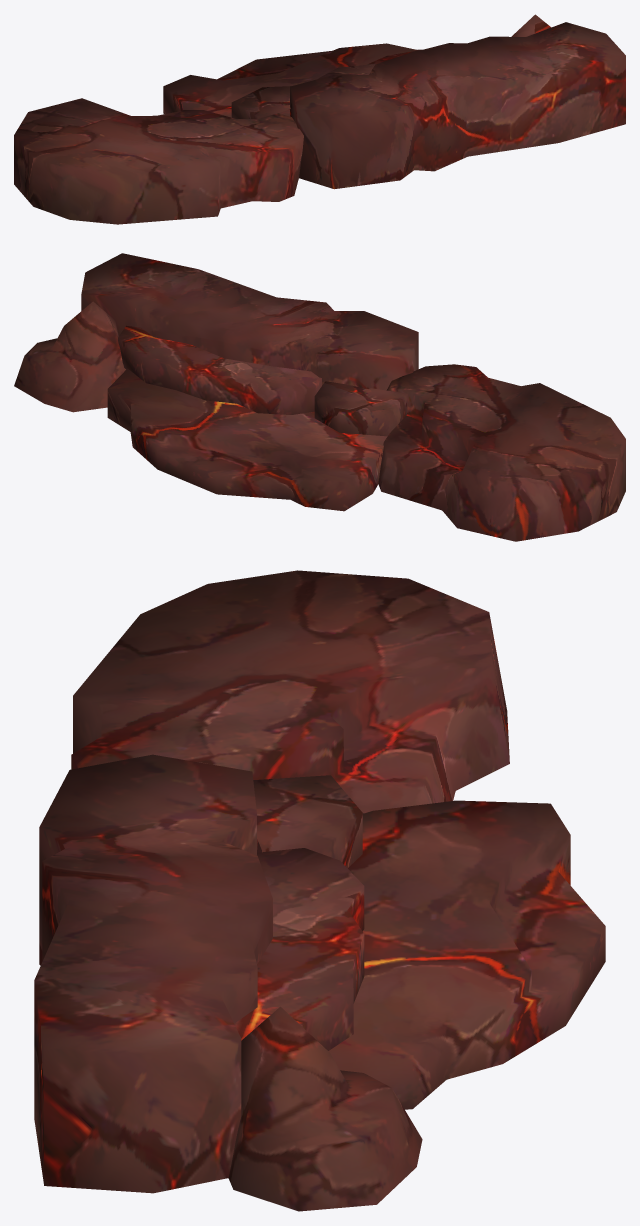
The model's file is Dragon_Road_01.FBX.
3 renders of one model, top to bottom at view 1: azimuth 30°, elevation 25°; view 2: azimuth 150°, elevation 25°; view 3: azimuth 270°, elevation 25°, orthographic. The views are drawn at different scales.
Parts seen in each view (by area): view 1: Dragon_Road_01; view 2: Dragon_Road_01; view 3: Dragon_Road_01.
Part boxes in pixels (<box>): Dragon_Road_01: <box>14,14,625,224</box>; Dragon_Road_01: <box>14,253,625,541</box>; Dragon_Road_01: <box>34,570,605,1211</box>.
Size of the model in its own units: 10.83 by 1.39 by 4.83.
